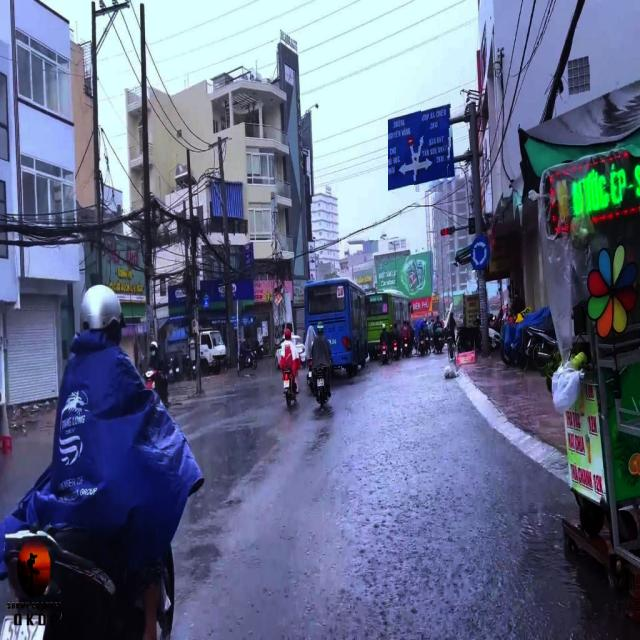khac: (388, 102, 455, 192)
noi_giao_nhau_chay_theo_vong: (471, 238, 490, 270)
